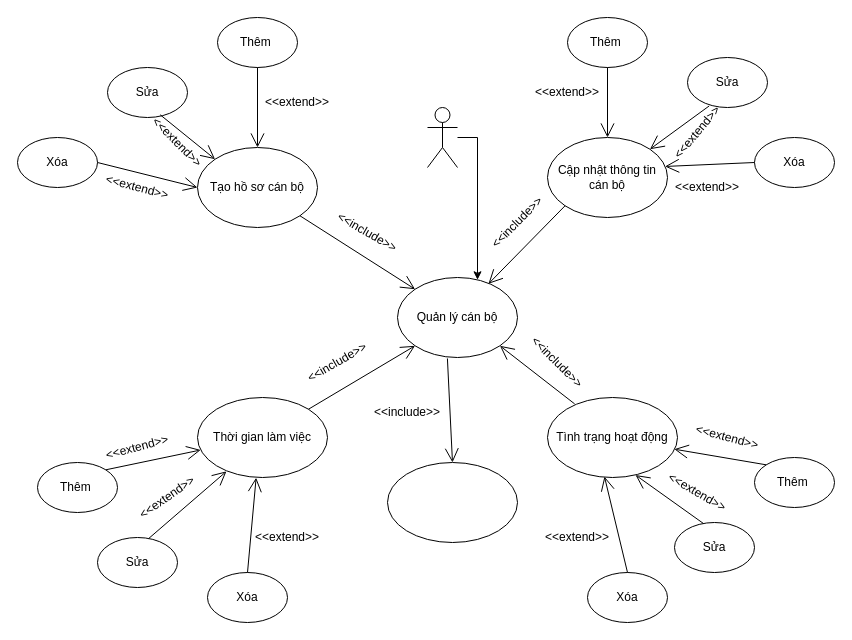
The diagram is 852 pixels wide and 640 high, and some of its shapes have lost their labels. Here are the shapes that lost their labels. From the top down, the centre of each, then its label:
point 442,137: Cán bộ
point 452,502: In danh sách cán bộ
